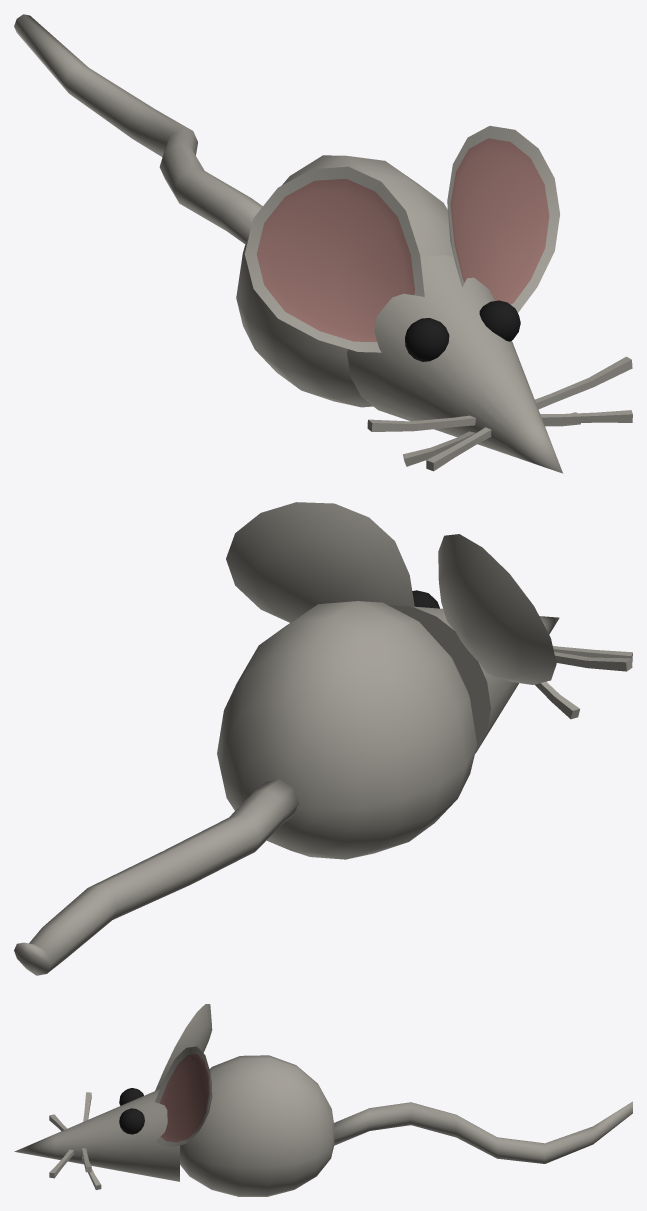
File: M_whiteMouse.fbx
3 views of the same model, one above another, from view 1: azimuth 30°, elevation 25°; view 2: azimuth 150°, elevation 25°; view 3: azimuth 270°, elevation 25° (orthographic). The views are drawn at different scales.
Visible parts, largest first — view 1: M_mouse; view 2: M_mouse; view 3: M_mouse.
Boxes of the visible parts, box(x1,y1,x2,y2) form: M_mouse: box(14, 14, 632, 473); M_mouse: box(14, 502, 632, 975); M_mouse: box(14, 1004, 632, 1196).
Bounding box in the file's own units: 2.54 × 2.13 × 7.46.
